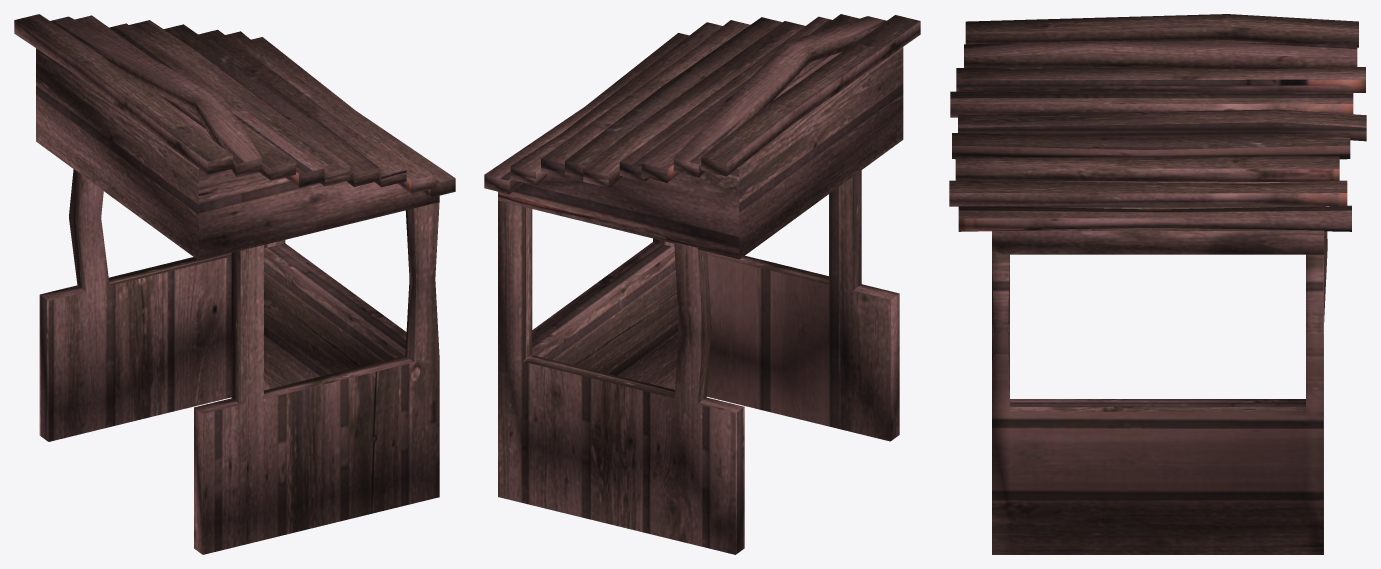
The model's file is Vendinha.fbx.
3 renders of one model, left to right at view 1: azimuth 30°, elevation 25°; view 2: azimuth 150°, elevation 25°; view 3: azimuth 270°, elevation 25°, orthographic.
Visible parts, largest first — view 1: Vendinha1; view 2: Vendinha1; view 3: Vendinha1.
Boxes of the visible parts, bbox=[...] form: Vendinha1: bbox=[14, 14, 455, 554]; Vendinha1: bbox=[484, 14, 920, 554]; Vendinha1: bbox=[949, 14, 1366, 554].
Bounding box in the file's own units: 315 × 452 × 500.
